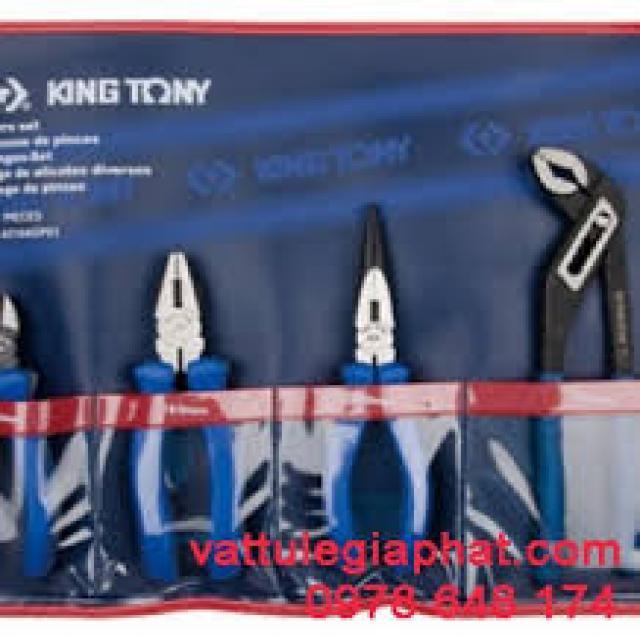screwdriver: (33, 278, 597, 359)
